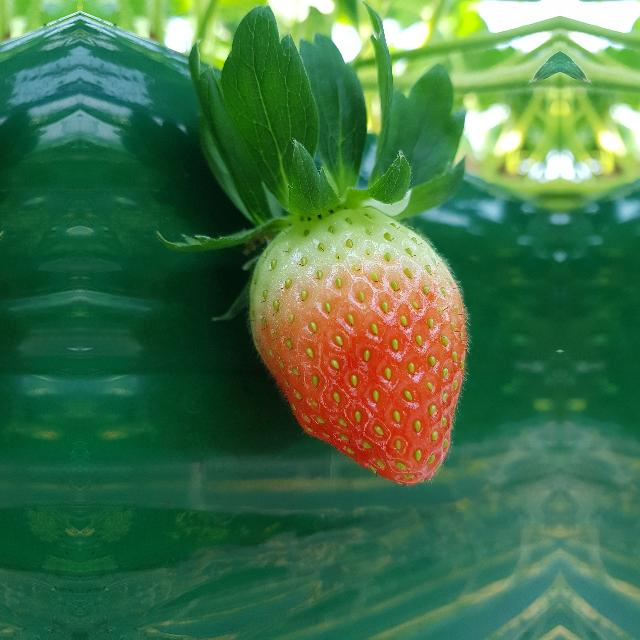Health_75: (247, 207, 469, 487)
